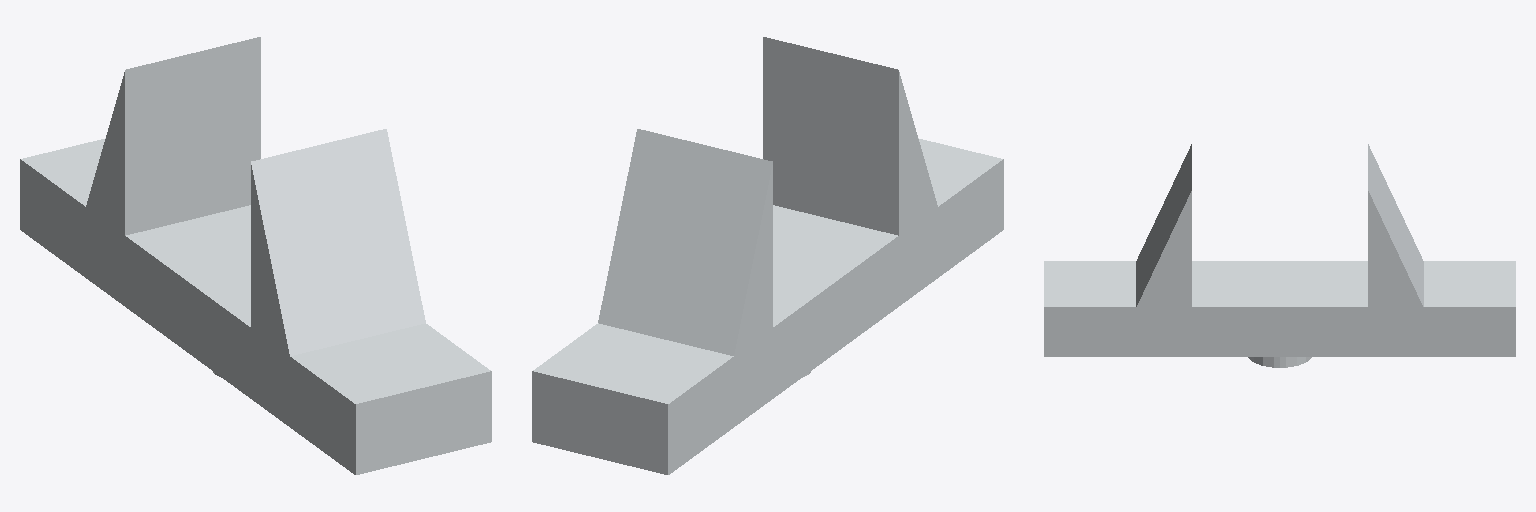
The robot description file, URDF, robot "robot_one":
<?xml version="1.0" ?>
<!-- =================================================================================== -->
<!-- |    This document was autogenerated by xacro from model_sum.urdf.xacro           | -->
<!-- |    EDITING THIS FILE BY HAND IS NOT RECOMMENDED                                 | -->
<!-- =================================================================================== -->
<robot name="robot_one">
  <link name="dummy">
  </link>
  <joint name="dummy_joint" type="fixed">
    <parent link="dummy"/>
    <child link="base_link"/>
  </joint>
  <link name="base_link">
    <inertial>
      <origin rpy="0 0 0" xyz="-0.00050672 -0.00050785 0.062888"/>
      <mass value="15.177"/>
      <inertia ixx="0.083295" ixy="0.0005776" ixz="-0.00028833" iyy="0.083294" iyz="-0.0002891" izz="0.11636"/>
    </inertial>
    <visual>
      <origin rpy="0 0 0" xyz="0 0 0"/>
      <geometry>
        <mesh filename="package://robot_gazebo/meshes/base_link.STL"/>
      </geometry>
      <material name="">
        <color rgba="0.89804 0.91765 0.92941 1"/>
      </material>
    </visual>
    <collision>
      <origin rpy="0 0 0" xyz="0 0 0"/>
      <geometry>
        <mesh filename="package://robot_gazebo/meshes/base_link.STL"/>
      </geometry>
    </collision>
  </link>
  <link name="Joint1_Link">

    <inertial>
      <origin rpy="0 0 0" xyz="3.815E-05 0.00060867 0.14101"/>
      <mass value="3.2589"/>
      <inertia ixx="0.015737" ixy="-1.9942E-06" ixz="-6.3989E-06" iyy="0.01209" iyz="-0.0020351" izz="0.010023"/>
    </inertial>
    <visual>
      <origin rpy="0 0 0" xyz="0 0 0"/>
      <geometry>
        <mesh filename="package://robot_gazebo/meshes/Joint1_Link.STL"/>
      </geometry>
      <material name="">
        <color rgba="0.89804 0.91765 0.92941 1"/>
      </material>
    </visual>
    <collision>
      <origin rpy="0 0 0" xyz="0 0 0"/>
      <geometry>
        <mesh filename="package://robot_gazebo/meshes/Joint1_Link.STL"/>
      </geometry>
    </collision>
  </link>
  <joint name="Joint1" type="revolute">
    <origin rpy="0 0 0" xyz="0 0 0.146"/>
    <parent link="base_link"/>
    <child link="Joint1_Link"/>
    <axis xyz="0 0 1"/>
    <limit effort="100" lower="-3" upper="3" velocity="100"/>
  </joint>
  <link name="Joint2_Link">
    <inertial>
      <origin rpy="0 0 0" xyz="-2.4813E-06 -0.14619 -0.05412"/>
      <mass value="1.4714"/>
      <inertia ixx="0.010571" ixy="5.4064E-08" ixz="-3.4511E-07" iyy="0.0045856" iyz="-0.0033059" izz="0.0094805"/>
    </inertial>
    <visual>
      <geometry>
        <mesh filename="package://robot_gazebo/meshes/Joint2_Link.STL"/>
      </geometry>
      <material name="">
        <color rgba="0.89804 0.91765 0.92941 1"/>
      </material>
    </visual>
    <collision>
      <geometry>
        <mesh filename="package://robot_gazebo/meshes/Joint2_Link.STL"/>
      </geometry>
    </collision>
  </link>
  <joint name="Joint2" type="continuous">
    <origin rpy="-1.5708 0 0" xyz="0 0.084 0.157"/>
    <parent link="Joint1_Link"/>
    <child link="Joint2_Link"/>
    <axis xyz="0 0 1"/>
    <limit effort="100" lower="-2" upper="2" velocity="100"/>
  </joint>
  <link name="Joint3_Link">
    <inertial>
      <origin rpy="0 0 0" xyz="-2.4607E-06 -0.019343 0.11276"/>
      <mass value="1.4332"/>
      <inertia ixx="0.0069817" ixy="-1.4824E-07" ixz="3.5058E-07" iyy="0.005899" iyz="-0.00084107" izz="0.0034704"/>
    </inertial>
    <visual>
      <geometry>
        <mesh filename="package://robot_gazebo/meshes/Joint3_Link.STL"/>
      </geometry>
      <material name="">
        <color rgba="0.89804 0.91765 0.92941 1"/>
      </material>
    </visual>
    <collision>
      <geometry>
        <mesh filename="package://robot_gazebo/meshes/Joint3_Link.STL"/>
      </geometry>
    </collision>
  </link>
  <joint name="Joint3" type="continuous">
    <origin rpy="1.5708 0 0" xyz="0 -0.258 -0.084"/>
    <parent link="Joint2_Link"/>
    <child link="Joint3_Link"/>
    <axis xyz="0 0 1"/>
    <limit effort="100" lower="-3" upper="3" velocity="100"/>
  </joint>
  <link name="Joint4_Link">
    <inertial>
      <origin rpy="0 0 0" xyz="2.1939E-05 -0.1389 -0.038332"/>
      <mass value="1.1839"/>
      <inertia ixx="0.0078173" ixy="2.3828E-06" ixz="4.1091E-07" iyy="0.0026824" iyz="-0.002166" izz="0.007437"/>
    </inertial>
    <visual>
      <origin rpy="0 0 0" xyz="0 0 0"/>
      <geometry>
        <mesh filename="package://robot_gazebo/meshes/Joint4_Link.STL"/>
      </geometry>
      <material name="">
        <color rgba="0.89804 0.91765 0.92941 1"/>
      </material>
    </visual>
    <collision>
      <origin rpy="0 0 0" xyz="0 0 0"/>
      <geometry>
        <mesh filename="package://robot_gazebo/meshes/Joint4_Link.STL"/>
      </geometry>
    </collision>
  </link>
  <joint name="Joint4" type="continuous">
    <origin rpy="-1.5708 0 0" xyz="0 0.065 0.142"/>
    <parent link="Joint3_Link"/>
    <child link="Joint4_Link"/>
    <axis xyz="0 0 1"/>
    <limit effort="100" lower="-3" upper="1" velocity="100"/>
  </joint>
  <link name="Joint5_Link">
    <inertial>
      <origin rpy="0 0 0" xyz="2.2915E-05 -0.013559 0.11664"/>
      <mass value="1.1389"/>
      <inertia ixx="0.0054051" ixy="-1.5393E-06" ixz="-5.7318E-07" iyy="0.0047158" iyz="-0.00065943" izz="0.0021965"/>
    </inertial>
    <visual>
      <origin rpy="0 0 0" xyz="0 0 0"/>
      <geometry>
        <mesh filename="package://robot_gazebo/meshes/Joint5_Link.STL"/>
      </geometry>
      <material name="">
        <color rgba="0.89804 0.91765 0.92941 1"/>
      </material>
    </visual>
    <collision>
      <origin rpy="0 0 0" xyz="0 0 0"/>
      <geometry>
        <mesh filename="package://robot_gazebo/meshes/Joint5_Link.STL"/>
      </geometry>
    </collision>
  </link>
  <joint name="Joint5" type="continuous">
    <origin rpy="1.5708 0 0" xyz="0 -0.25025 -0.065"/>
    <parent link="Joint4_Link"/>
    <child link="Joint5_Link"/>
    <axis xyz="0 0 1"/>
    <limit effort="12" lower="-3" upper="3" velocity="3"/>
  </joint>
  <link name="Joint6_Link">
    <inertial>
      <origin rpy="0 0 0" xyz="2.1743E-05 -0.13692 -0.038492"/>
      <mass value="1.1946"/>
      <inertia ixx="0.0082077" ixy="2.4344E-06" ixz="4.1972E-07" iyy="0.0026929" iyz="-0.0022555" izz="0.0078073"/>
    </inertial>
    <visual>
      <geometry>
        <mesh filename="package://robot_gazebo/meshes/Joint6_Link.STL"/>
      </geometry>
      <material name="">
        <color rgba="0.89804 0.91765 0.92941 1"/>
      </material>
    </visual>
    <collision>
      <geometry>
        <mesh filename="package://robot_gazebo/meshes/Joint6_Link.STL"/>
      </geometry>
    </collision>
  </link>
  <joint name="Joint6" type="continuous">
    <origin rpy="-1.5708 0 0" xyz="0 0.0655 0.14975"/>
    <parent link="Joint5_Link"/>
    <child link="Joint6_Link"/>
    <axis xyz="0 0 1"/>
    <limit effort="12" lower="-1" upper="4" velocity="3"/>
  </joint>
  <link name="Joint7_Link">
    <inertial>
      <origin rpy="0 0 0" xyz="8.2379E-14 2.8922E-14 -0.038682"/>
      <mass value="0.2104"/>
      <inertia ixx="0.00027857" ixy="-1.5757E-20" ixz="-2.2111E-20" iyy="3.527E-05" iyz="8.0866E-19" izz="0.00027439"/>
    </inertial>
    <visual>
      <geometry>
        <mesh filename="package://robot_gazebo/meshes/Joint7_Link.STL"/>
      </geometry>
      <material name="">
        <color rgba="0.89804 0.91765 0.92941 1"/>
      </material>
    </visual>
    <collision>
      <geometry>
        <mesh filename="package://robot_gazebo/meshes/Joint7_Link.STL"/>
      </geometry>
    </collision>
  </link>
  <joint name="Joint7" type="continuous">
    <origin rpy="1.5708 0 0" xyz="0 -0.30175 -0.0655"/>
    <parent link="Joint6_Link"/>
    <child link="Joint7_Link"/>
    <axis xyz="0 0 1"/>
    <limit effort="12" lower="-1" upper="4" velocity="3"/>
  </joint>
  
  <gazebo reference="base_link">
    <material>Gazebo/Black</material>
  </gazebo>
  <gazebo reference="Joint1_Link">
    <material>Gazebo/Blue</material>
  </gazebo>
  <gazebo reference="Joint2_Link">
    <material>Gazebo/Blue</material>
  </gazebo>
  <gazebo reference="Joint3_Link">
    <material>Gazebo/Blue</material>
  </gazebo>
  <gazebo reference="Joint4_Link">
    <material>Gazebo/Blue</material>
  </gazebo>
  <gazebo reference="Joint5_Link">
    <material>Gazebo/Blue</material>
  </gazebo>
  <gazebo reference="Joint6_Link">
    <material>Gazebo/Blue</material>
  </gazebo>
  <gazebo reference="Joint7_Link">
    <material>Gazebo/Blue</material>
  </gazebo>
  <!-- ros_control plugin -->
  <gazebo>
    <plugin filename="libgazebo_ros_control.so" name="gazebo_ros_control"/>
    <robotNamespace>/robot_one</robotNamespace>
  </gazebo>
  <!-- obstacle -->
  <!-- <link name="obstacle1">
        <visual>
            <geometry>
                <sphere radius="1" />
            </geometry>

            <origin xyz="0 0 0" rpy="0 0 0" />
            <material name="white">
                <color rgba="[phone redacted] 0.5" />
            </material>
        </visual>
    </link>
    <joint name="obstacle1_joint" type="fixed">
    <origin xyz="0 0 1" rpy="0 0 0" />
    <parent link="dummy" />
    <child link="obstacle1" />
    <axis xyz="0 0 0" />
  </joint> -->
  <gazebo reference="Joint1">
    <!-- Needed for ODE to output external wrenches on joints -->
    <provideFeedback>true</provideFeedback>
  </gazebo>
  <transmission name="Joint1_transmission">
    <type>transmission_interface/SimpleTransmission</type>
    <joint name="Joint1">
      <hardwareInterface>PositionJointInterface</hardwareInterface>
      <!-- <hardwareInterface>hardware_interface/PositionJointInterface</hardwareInterface> -->
    </joint>
    <actuator name="Joint1_motor">
      <hardwareInterface>PositionJointInterface</hardwareInterface>
      <!-- <hardwareInterface>hardware_interface/PositionJointInterface</hardwareInterface> -->
      <!-- <mechanicalReduction>1</mechanicalReduction> -->
    </actuator>
  </transmission>
  <gazebo reference="Joint2">
    <!-- Needed for ODE to output external wrenches on joints -->
    <provideFeedback>true</provideFeedback>
  </gazebo>
  <transmission name="Joint2_transmission">
    <type>transmission_interface/SimpleTransmission</type>
    <joint name="Joint2">
      <hardwareInterface>PositionJointInterface</hardwareInterface>
      <!-- <hardwareInterface>hardware_interface/PositionJointInterface</hardwareInterface> -->
    </joint>
    <actuator name="Joint2_motor">
      <hardwareInterface>PositionJointInterface</hardwareInterface>
      <!-- <hardwareInterface>hardware_interface/PositionJointInterface</hardwareInterface> -->
      <!-- <mechanicalReduction>1</mechanicalReduction> -->
    </actuator>
  </transmission>
  <gazebo reference="Joint3">
    <!-- Needed for ODE to output external wrenches on joints -->
    <provideFeedback>true</provideFeedback>
  </gazebo>
  <transmission name="Joint3_transmission">
    <type>transmission_interface/SimpleTransmission</type>
    <joint name="Joint3">
      <hardwareInterface>PositionJointInterface</hardwareInterface>
      <!-- <hardwareInterface>hardware_interface/PositionJointInterface</hardwareInterface> -->
    </joint>
    <actuator name="Joint3_motor">
      <hardwareInterface>PositionJointInterface</hardwareInterface>
      <!-- <hardwareInterface>hardware_interface/PositionJointInterface</hardwareInterface> -->
      <!-- <mechanicalReduction>1</mechanicalReduction> -->
    </actuator>
  </transmission>
  <gazebo reference="Joint4">
    <!-- Needed for ODE to output external wrenches on joints -->
    <provideFeedback>true</provideFeedback>
  </gazebo>
  <transmission name="Joint4_transmission">
    <type>transmission_interface/SimpleTransmission</type>
    <joint name="Joint4">
      <hardwareInterface>PositionJointInterface</hardwareInterface>
      <!-- <hardwareInterface>hardware_interface/PositionJointInterface</hardwareInterface> -->
    </joint>
    <actuator name="Joint4_motor">
      <hardwareInterface>PositionJointInterface</hardwareInterface>
      <!-- <hardwareInterface>hardware_interface/PositionJointInterface</hardwareInterface> -->
      <!-- <mechanicalReduction>1</mechanicalReduction> -->
    </actuator>
  </transmission>
  <gazebo reference="Joint5">
    <!-- Needed for ODE to output external wrenches on joints -->
    <provideFeedback>true</provideFeedback>
  </gazebo>
  <transmission name="Joint5_transmission">
    <type>transmission_interface/SimpleTransmission</type>
    <joint name="Joint5">
      <hardwareInterface>PositionJointInterface</hardwareInterface>
      <!-- <hardwareInterface>hardware_interface/PositionJointInterface</hardwareInterface> -->
    </joint>
    <actuator name="Joint5_motor">
      <hardwareInterface>PositionJointInterface</hardwareInterface>
      <!-- <hardwareInterface>hardware_interface/PositionJointInterface</hardwareInterface> -->
      <!-- <mechanicalReduction>1</mechanicalReduction> -->
    </actuator>
  </transmission>
  <gazebo reference="Joint6">
    <!-- Needed for ODE to output external wrenches on joints -->
    <provideFeedback>true</provideFeedback>
  </gazebo>
  <transmission name="Joint6_transmission">
    <type>transmission_interface/SimpleTransmission</type>
    <joint name="Joint6">
      <hardwareInterface>PositionJointInterface</hardwareInterface>
      <!-- <hardwareInterface>hardware_interface/PositionJointInterface</hardwareInterface> -->
    </joint>
    <actuator name="Joint6_motor">
      <hardwareInterface>PositionJointInterface</hardwareInterface>
      <!-- <hardwareInterface>hardware_interface/PositionJointInterface</hardwareInterface> -->
      <!-- <mechanicalReduction>1</mechanicalReduction> -->
    </actuator>
  </transmission>
  <gazebo reference="Joint7">
    <!-- Needed for ODE to output external wrenches on joints -->
    <provideFeedback>true</provideFeedback>
  </gazebo>
  <transmission name="Joint7_transmission">
    <type>transmission_interface/SimpleTransmission</type>
    <joint name="Joint7">
      <hardwareInterface>PositionJointInterface</hardwareInterface>
      <!-- <hardwareInterface>hardware_interface/PositionJointInterface</hardwareInterface> -->
    </joint>
    <actuator name="Joint7_motor">
      <hardwareInterface>PositionJointInterface</hardwareInterface>
      <!-- <hardwareInterface>hardware_interface/PositionJointInterface</hardwareInterface> -->
      <!-- <mechanicalReduction>1</mechanicalReduction> -->
    </actuator>
  </transmission>
</robot>

--- Render facts (derived) ---
The picture shows the robot from 3 angles, left to right: view 1: azimuth 30°, elevation 25°; view 2: azimuth 150°, elevation 25°; view 3: azimuth 270°, elevation 25°; orthographic projection.
Robot: robot_one — 9 links, 8 joints (1 revolute, 6 continuous, 1 fixed); root link dummy; default pose: every joint at zero.
Links seen in each view (by area): view 1: Joint7_Link; view 2: Joint7_Link; view 3: Joint7_Link.
Boxes of the visible links, <box> form: Joint7_Link: <box>20,37,491,474</box>; Joint7_Link: <box>532,37,1003,474</box>; Joint7_Link: <box>1044,144,1515,367</box>.
Bounding box of the posed robot: 0.03 × 0.128 × 0.056 m (x, y, z).
Meshes: 8 distinct files referenced, 1 mesh visuals loaded (1 binary STL); not drawn: 7 (reference not matched to a file when rendering).